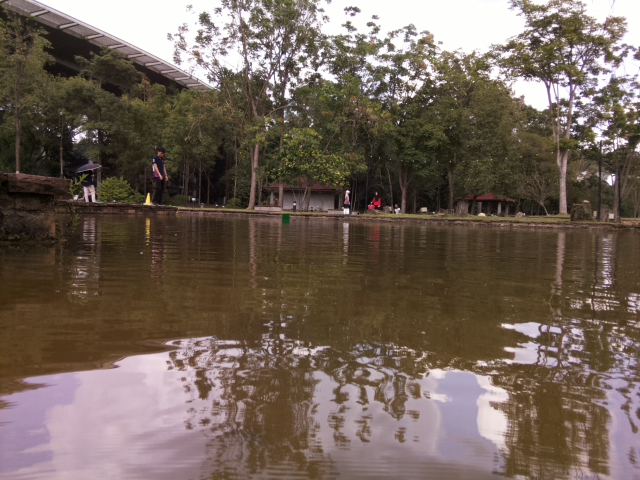checkpoint: (142, 192, 153, 206)
obstacle: (281, 213, 290, 224)
